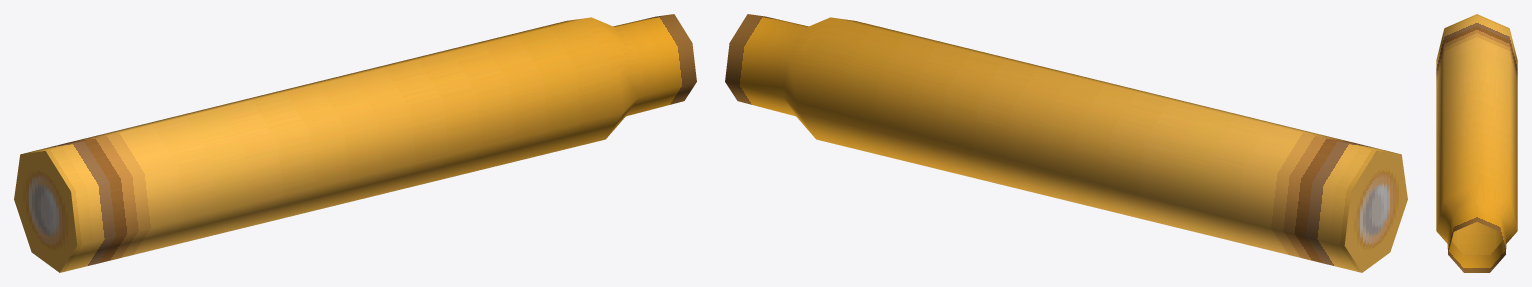
Rendered from 3006Round_Spent.fbx.
The picture shows the model from 3 angles, left to right: view 1: azimuth 30°, elevation 25°; view 2: azimuth 150°, elevation 25°; view 3: azimuth 270°, elevation 25°; orthographic projection. The views are drawn at different scales.
Visible parts, largest first — view 1: 3006ammo.001; view 2: 3006ammo.001; view 3: 3006ammo.001.
Boxes of the visible parts, <box> form: 3006ammo.001: <box>14,14,696,272</box>; 3006ammo.001: <box>725,14,1407,272</box>; 3006ammo.001: <box>1436,14,1517,272</box>.
Size of the model in its own units: 0.1253 by 0.0213 by 0.0219.
